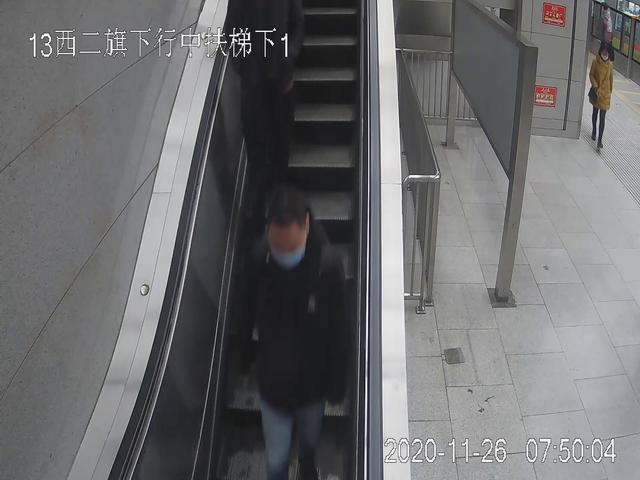person: (240, 192, 350, 478), (588, 41, 613, 150)
